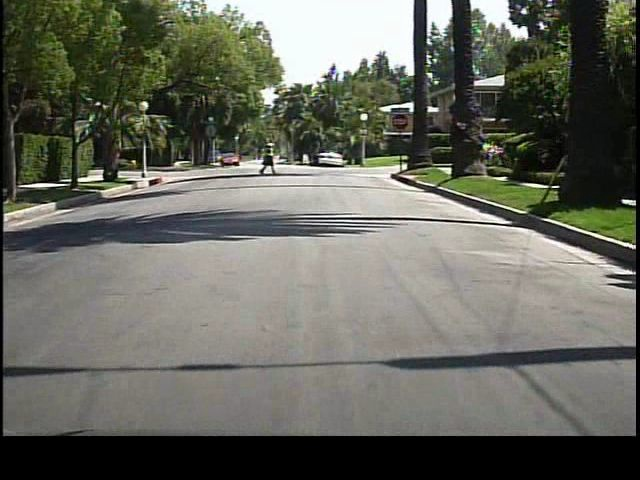person: (262, 136, 280, 176)
